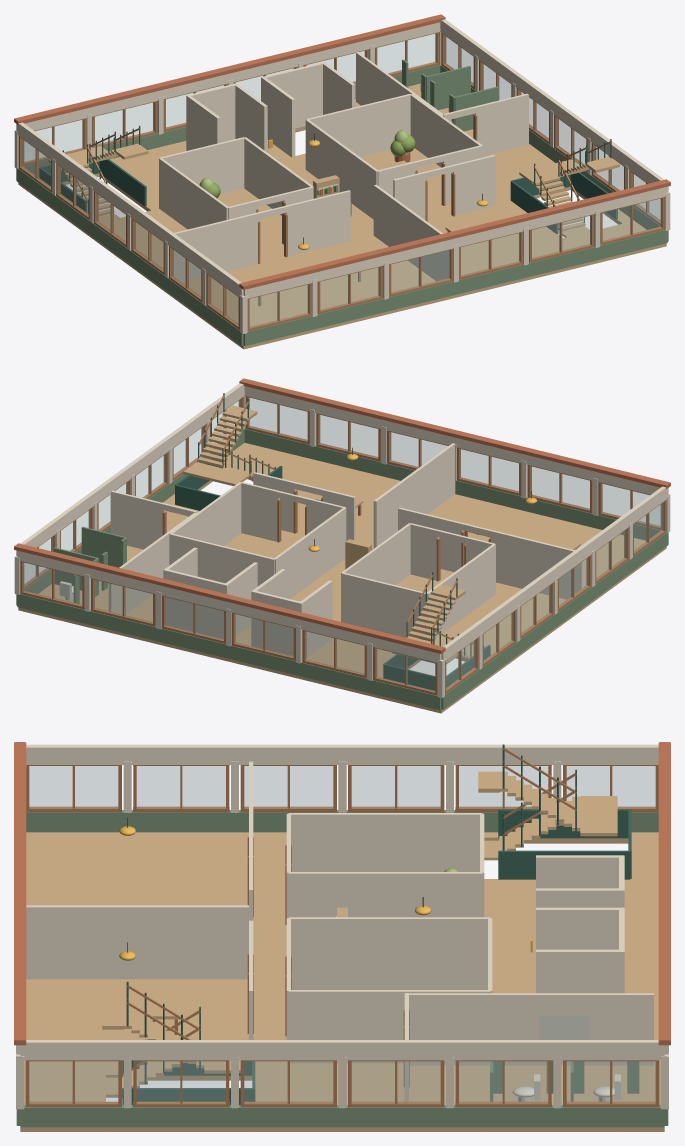
The model's file is campus-2F.glb.
The picture shows the model from 3 angles, top to bottom: view 1: azimuth 30°, elevation 25°; view 2: azimuth 150°, elevation 25°; view 3: azimuth 270°, elevation 25°; orthographic projection. The views are drawn at different scales.
Parts seen in each view (by area): view 1: Inside_cream_2F, Inside_oak_2F, Shell_glass_2F, Shell_cream_2F, Shell_sage_2F, Shell_wood_2F, Shell_clay_2F, Inside_deep_2F, Inside_sage_2F, Inside_wood_2F, Inside_leaf_2F; view 2: Inside_cream_2F, Shell_glass_2F, Inside_oak_2F, Shell_cream_2F, Shell_sage_2F, Shell_wood_2F, Shell_clay_2F, Inside_deep_2F, Inside_sage_2F, Inside_wood_2F; view 3: Inside_cream_2F, Inside_oak_2F, Shell_glass_2F, Shell_cream_2F, Shell_sage_2F, Shell_wood_2F, Shell_clay_2F, Inside_deep_2F, Inside_wood_2F, Inside_sage_2F, Inside_glass_2F, Inside_ivory_2F.
Boxes of the visible parts, <box> form: Inside_cream_2F: <box>159,52,528,282</box>; Inside_oak_2F: <box>18,83,666,349</box>; Shell_glass_2F: <box>21,34,661,327</box>; Shell_cream_2F: <box>14,19,670,333</box>; Shell_sage_2F: <box>16,65,668,345</box>; Shell_wood_2F: <box>18,32,664,331</box>; Shell_clay_2F: <box>14,14,670,289</box>; Inside_deep_2F: <box>39,125,617,233</box>; Inside_sage_2F: <box>317,59,498,214</box>; Inside_wood_2F: <box>76,114,611,306</box>; Inside_leaf_2F: <box>206,135,415,198</box>; Inside_cream_2F: <box>108,443,583,657</box>; Shell_glass_2F: <box>23,398,663,691</box>; Inside_oak_2F: <box>18,405,666,713</box>; Shell_cream_2F: <box>14,383,670,697</box>; Shell_sage_2F: <box>16,429,668,709</box>; Shell_wood_2F: <box>20,396,666,695</box>; Shell_clay_2F: <box>14,378,670,653</box>; Inside_deep_2F: <box>175,393,490,690</box>; Inside_sage_2F: <box>53,526,372,603</box>; Inside_wood_2F: <box>162,395,578,644</box>; Inside_cream_2F: <box>26,761,653,1101</box>; Inside_oak_2F: <box>20,771,664,1131</box>; Shell_glass_2F: <box>29,766,655,1102</box>; Shell_cream_2F: <box>16,744,668,1109</box>; Shell_sage_2F: <box>16,810,668,1127</box>; Shell_wood_2F: <box>25,765,659,1107</box>; Shell_clay_2F: <box>14,742,670,1045</box>; Inside_deep_2F: <box>122,744,631,1104</box>; Inside_wood_2F: <box>126,748,576,1086</box>; Inside_sage_2F: <box>490,1060,639,1101</box>; Inside_glass_2F: <box>539,1015,589,1039</box>; Inside_ivory_2F: <box>512,1074,620,1101</box>.
Size of the model in its own units: 26.3 by 4.94 by 24.46.
